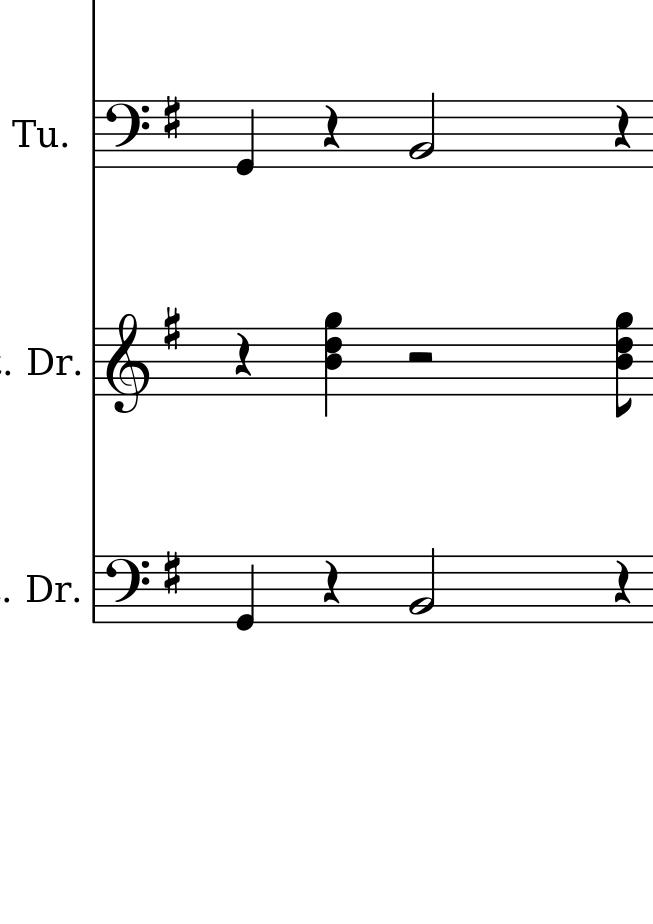2_2: (407, 90, 437, 169), (407, 547, 437, 624)
4_0: (234, 98, 258, 178), (234, 554, 258, 633)
4_th: (318, 309, 345, 414)
8_th: (613, 310, 635, 423)
Fclef: (104, 554, 151, 627), (105, 99, 151, 171)
Gclef: (106, 312, 152, 417)
Rests2: (404, 349, 436, 367)
Rests4: (318, 103, 342, 151), (319, 558, 342, 605), (612, 103, 633, 150), (232, 331, 253, 378), (612, 558, 632, 605)
Sharp: (161, 550, 184, 598), (161, 95, 183, 144), (161, 305, 183, 353)
Single_barline: (87, 101, 103, 167), (87, 556, 102, 622), (88, 329, 102, 395)
